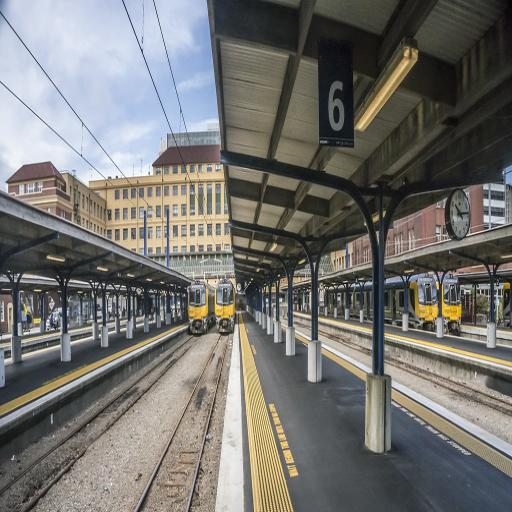platform_edge: (216, 322, 311, 512)
